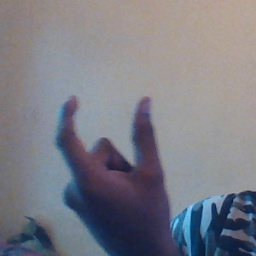U: (48, 87, 171, 237)
